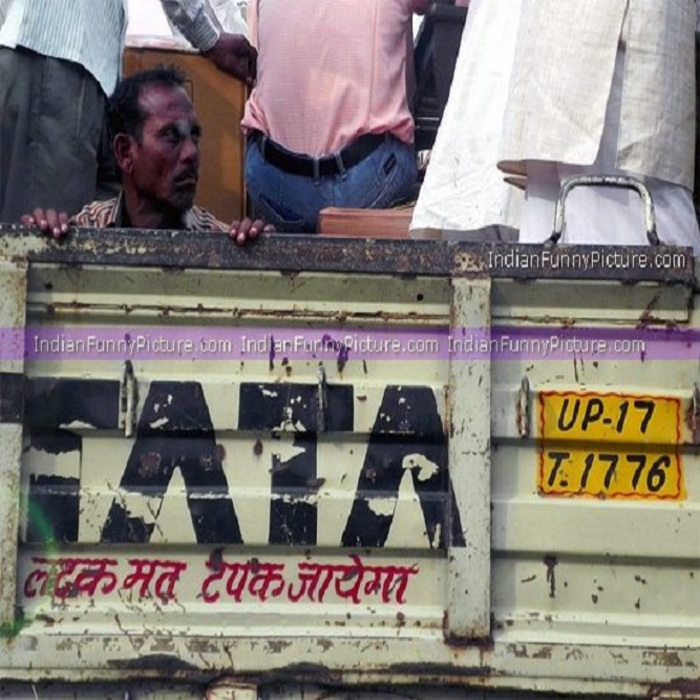n: (535, 389, 685, 503)
